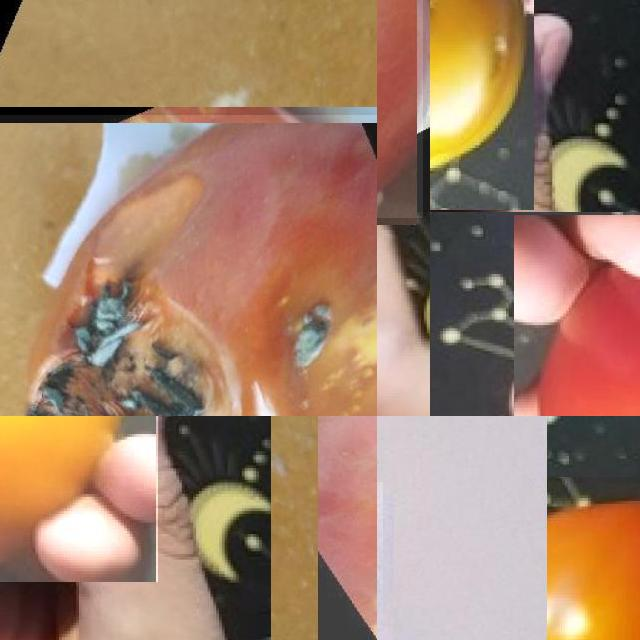Fresh Tomato: (513, 215, 640, 416)
Rotten Tomato: (0, 115, 377, 416), (0, 416, 158, 581), (430, 0, 533, 210), (547, 483, 640, 640)
